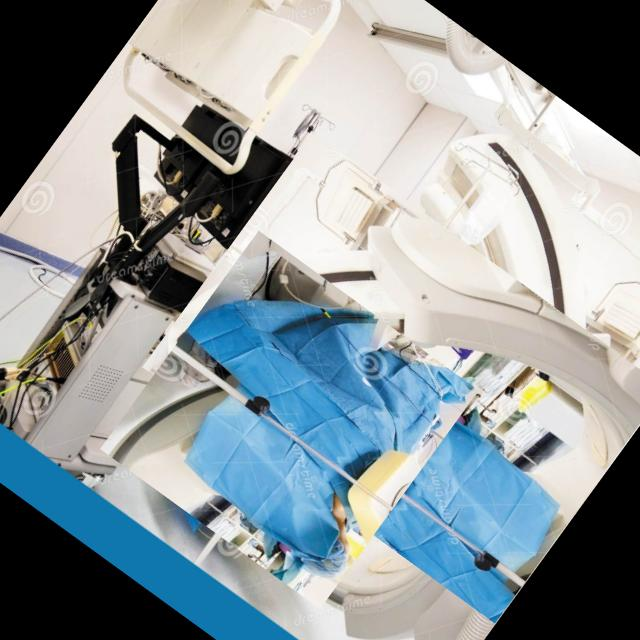Bed: (100, 231, 479, 610)
C_arm: (154, 119, 640, 640)
